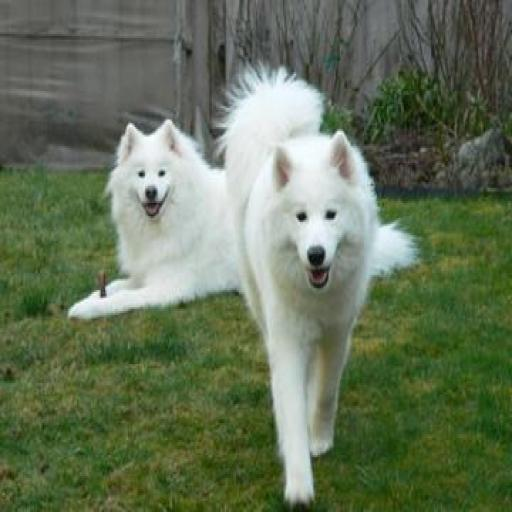dog_face: (269, 133, 365, 296), (116, 120, 183, 225)
